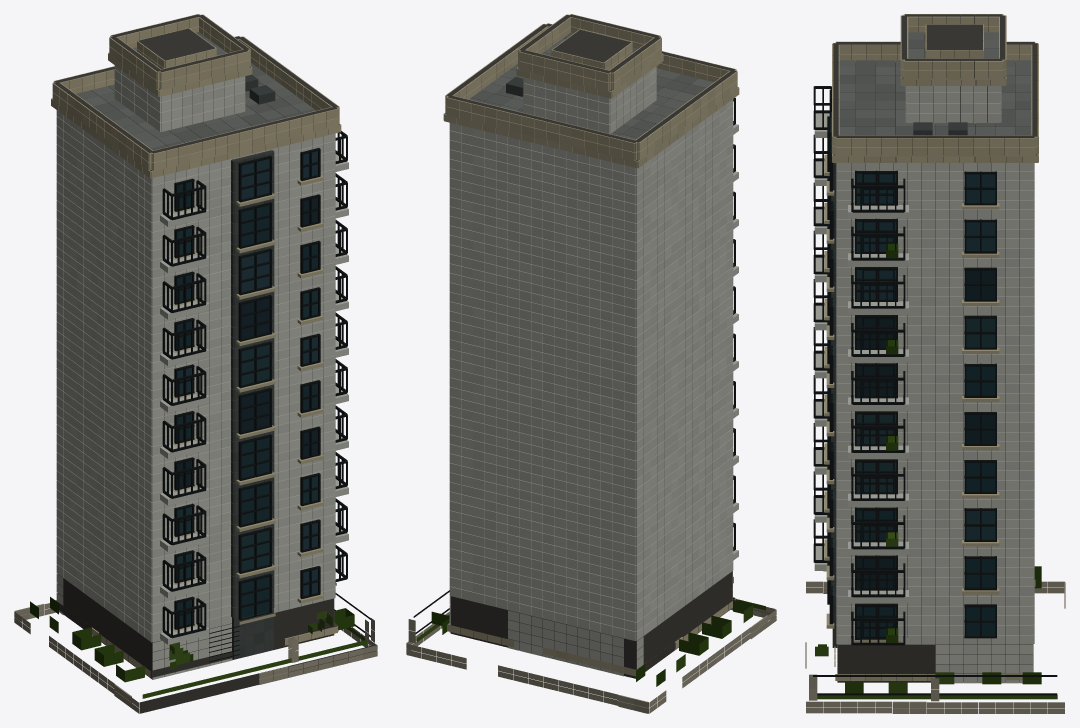
File: SM_StreetFrontage_068.fbx
3 renders of one model, left to right at view 1: azimuth 30°, elevation 25°; view 2: azimuth 150°, elevation 25°; view 3: azimuth 270°, elevation 25°, orthographic. The views are drawn at different scales.
Parts seen in each view (by area): view 1: SM_StreetFrontage_068; view 2: SM_StreetFrontage_068; view 3: SM_StreetFrontage_068.
Part boxes in pixels (x1,y1,x2,y2): SM_StreetFrontage_068: [14, 14, 377, 713]; SM_StreetFrontage_068: [406, 14, 776, 713]; SM_StreetFrontage_068: [805, 14, 1065, 713].
Size of the model in its own units: 14 by 12.78 by 33.13.
